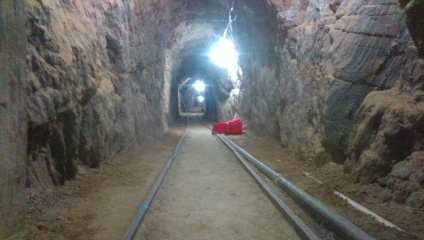backpack: (210, 116, 242, 135)
